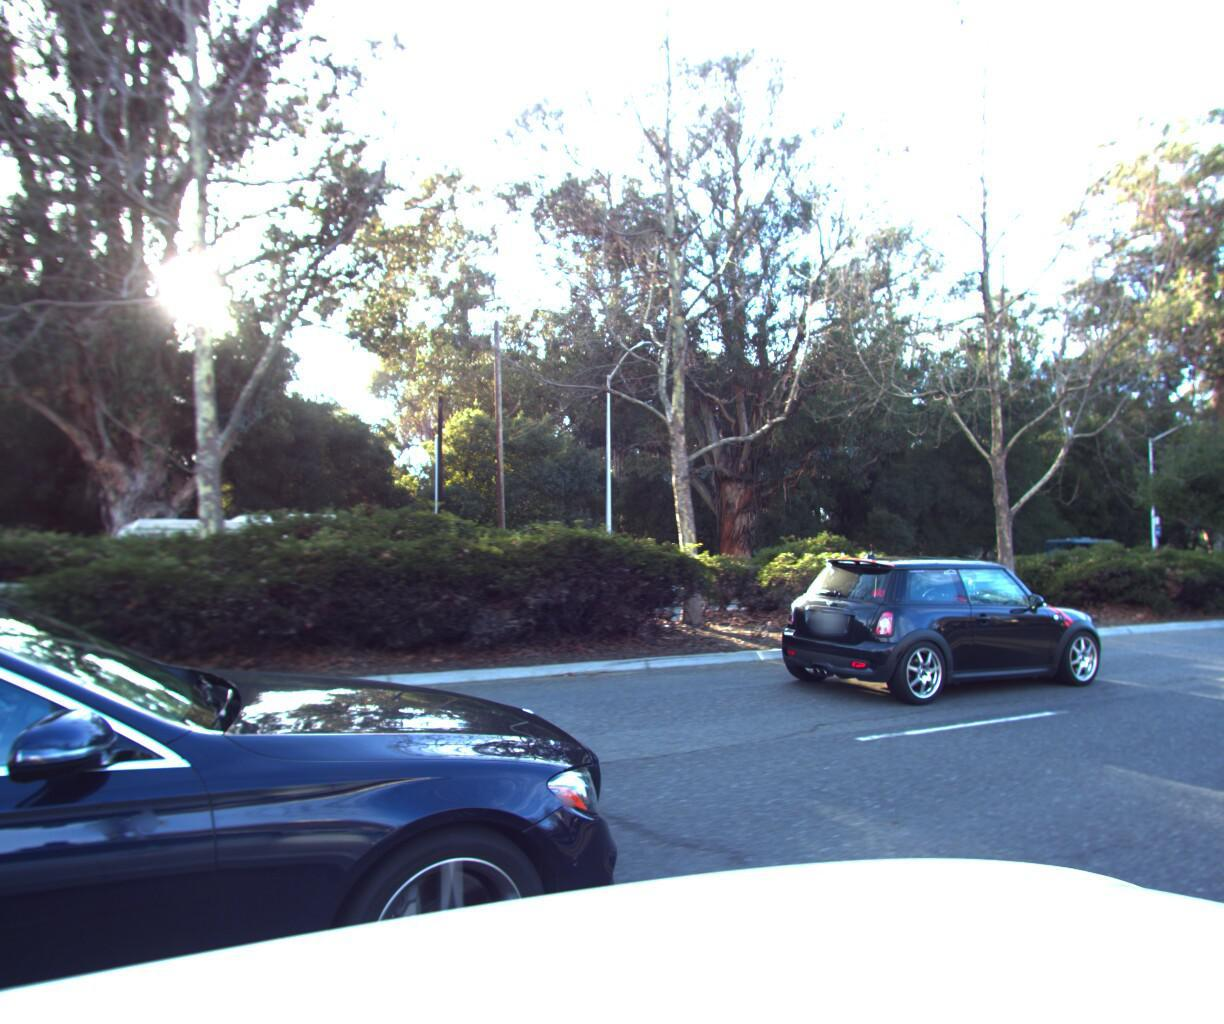car: (759, 544, 1098, 711)
other_vehicle: (85, 505, 376, 636)
